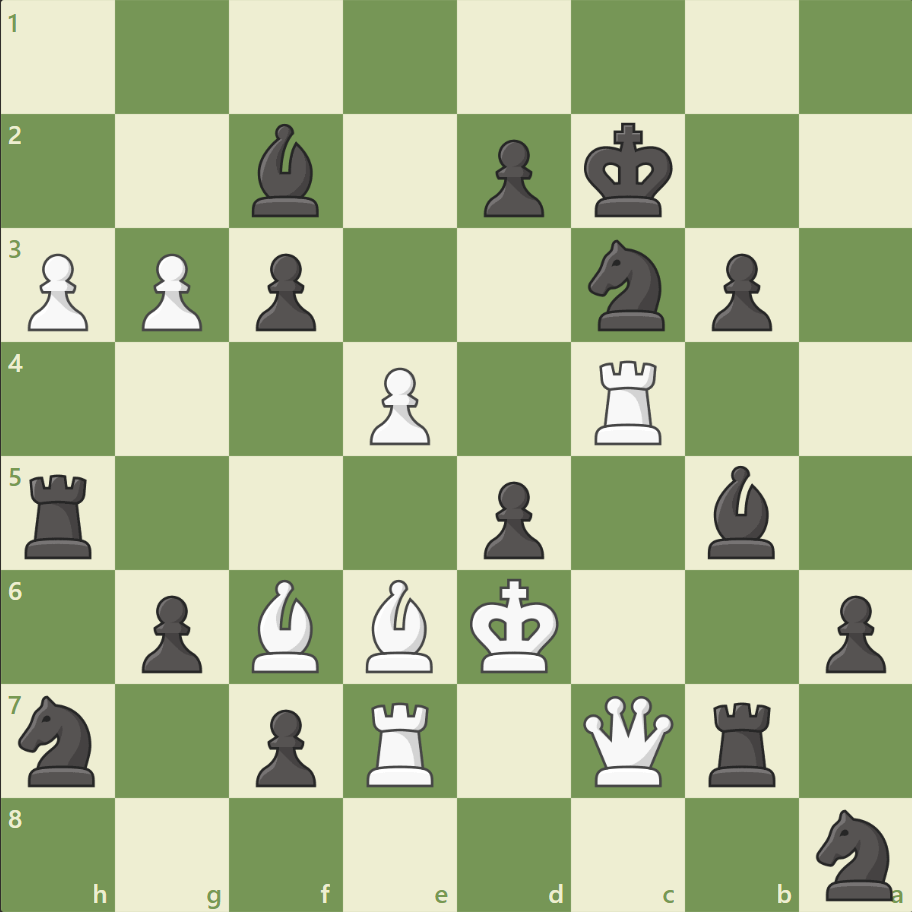B: (358, 574, 442, 676), (244, 574, 328, 676)
K: (465, 571, 565, 679)
P: (133, 246, 208, 337), (20, 246, 95, 337), (361, 359, 435, 450)
Q: (578, 690, 677, 789)
R: (587, 352, 670, 449), (360, 693, 442, 790)
b: (698, 460, 782, 563), (244, 120, 328, 222)
k: (579, 117, 679, 225)
n: (11, 688, 108, 791), (579, 234, 676, 337), (806, 802, 903, 904)
p: (247, 700, 322, 791), (133, 586, 208, 677), (474, 473, 549, 564), (701, 246, 776, 337), (247, 246, 322, 337), (474, 132, 549, 223), (815, 586, 889, 677)
r: (700, 693, 783, 790), (19, 466, 102, 563)
